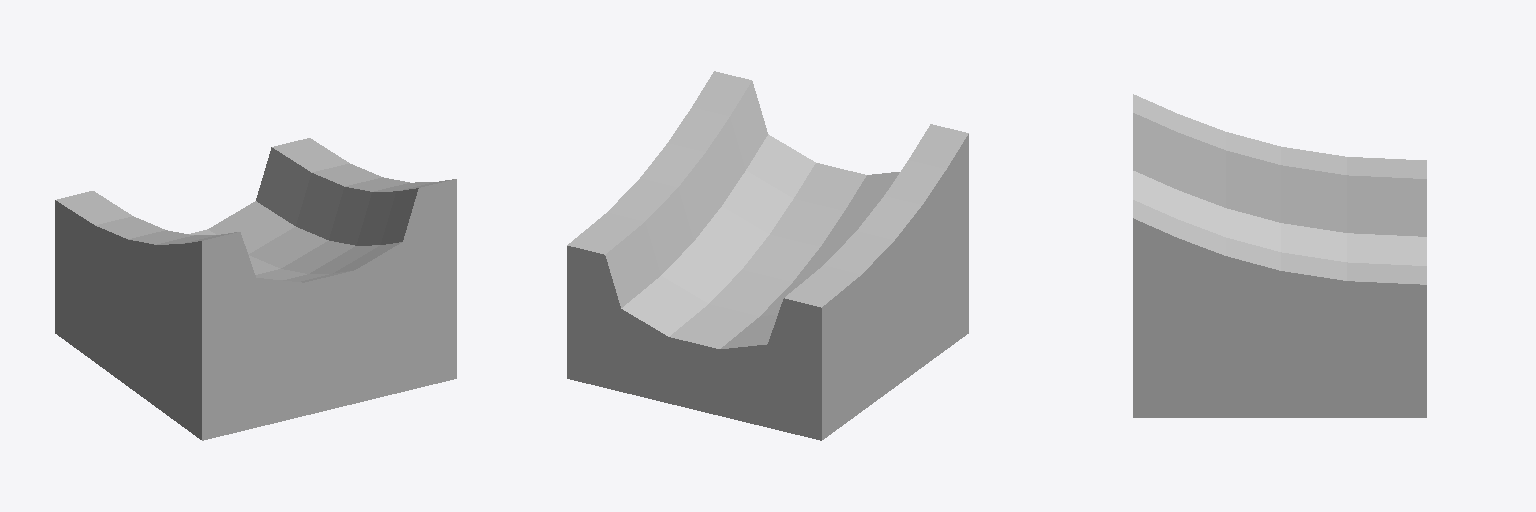
The model's file is ramp-start-solid-b.obj.
3 views of the same model, side by side, from view 1: azimuth 30°, elevation 25°; view 2: azimuth 150°, elevation 25°; view 3: azimuth 270°, elevation 25° (orthographic).
Parts seen in each view (by area): view 1: ramp-start-solid-b; view 2: ramp-start-solid-b; view 3: ramp-start-solid-b.
Part boxes in pixels (bbox=[...]): ramp-start-solid-b: bbox=[55, 138, 456, 440]; ramp-start-solid-b: bbox=[567, 71, 968, 440]; ramp-start-solid-b: bbox=[1133, 94, 1426, 417].
Size of the model in its own units: 1 by 0.75 by 1.